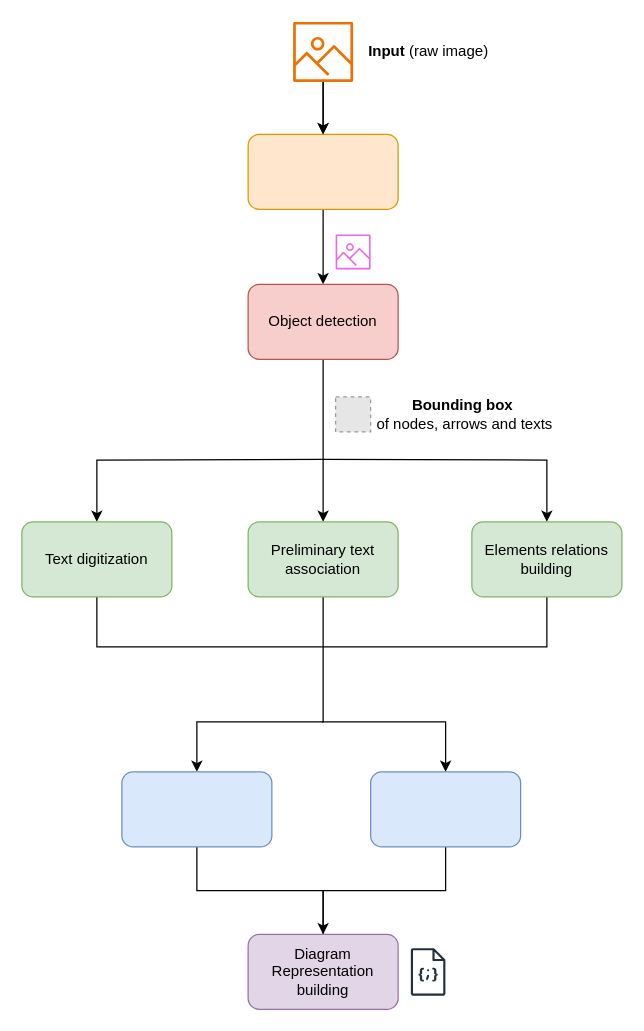
Some shapes in this 644 by 1031 pixel diagram are drawn without their labels. Grey dashed boxes stand in for pictures. Here are the shapes that lost their labels. From the top down, the centre of each, then its label:
At (322,171): "Preprocessing".
At (196,809): "Nodes-Texts association".
At (445,809): "Arrows-Texts association".
